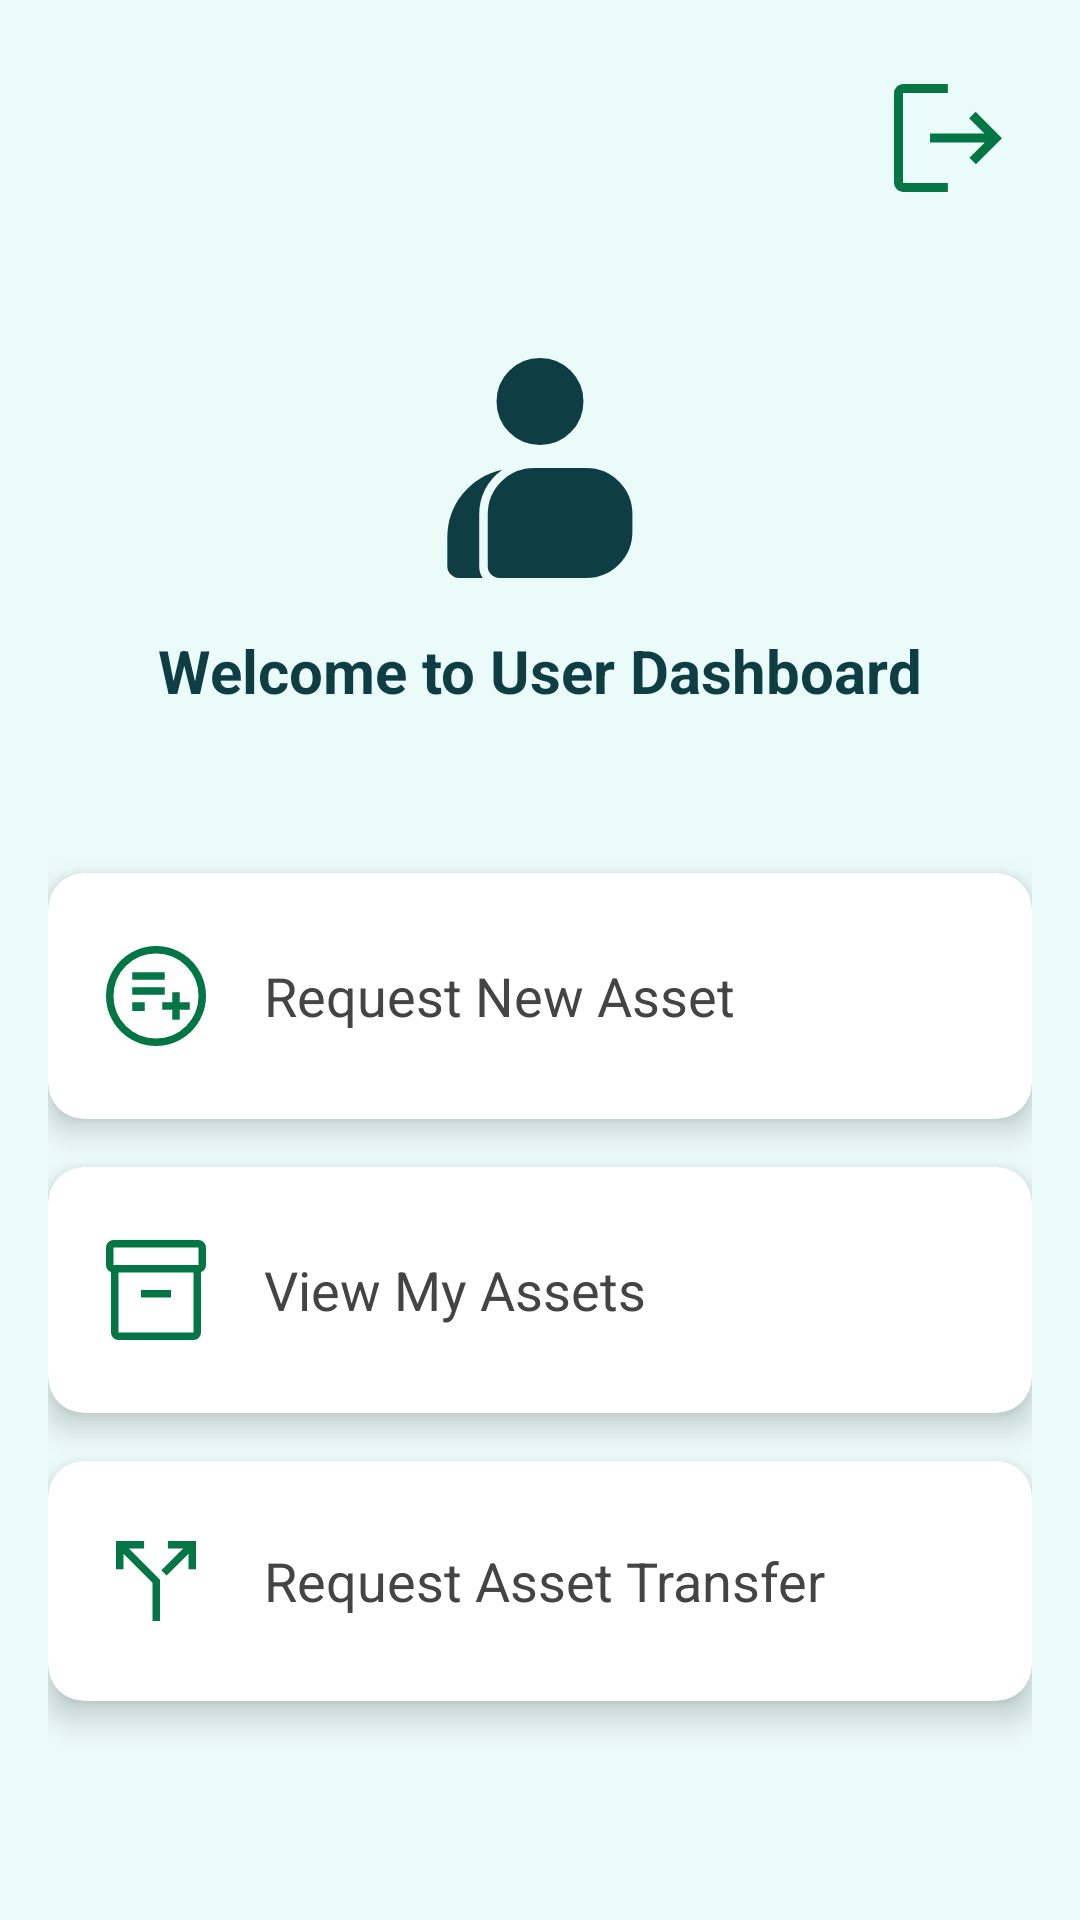

Icon click points for this 1080 × 1920 phone screenshot, format (x,y):
call split: (156,1581)
inventory: (156,1290)
playlist add circle: (156,996)
